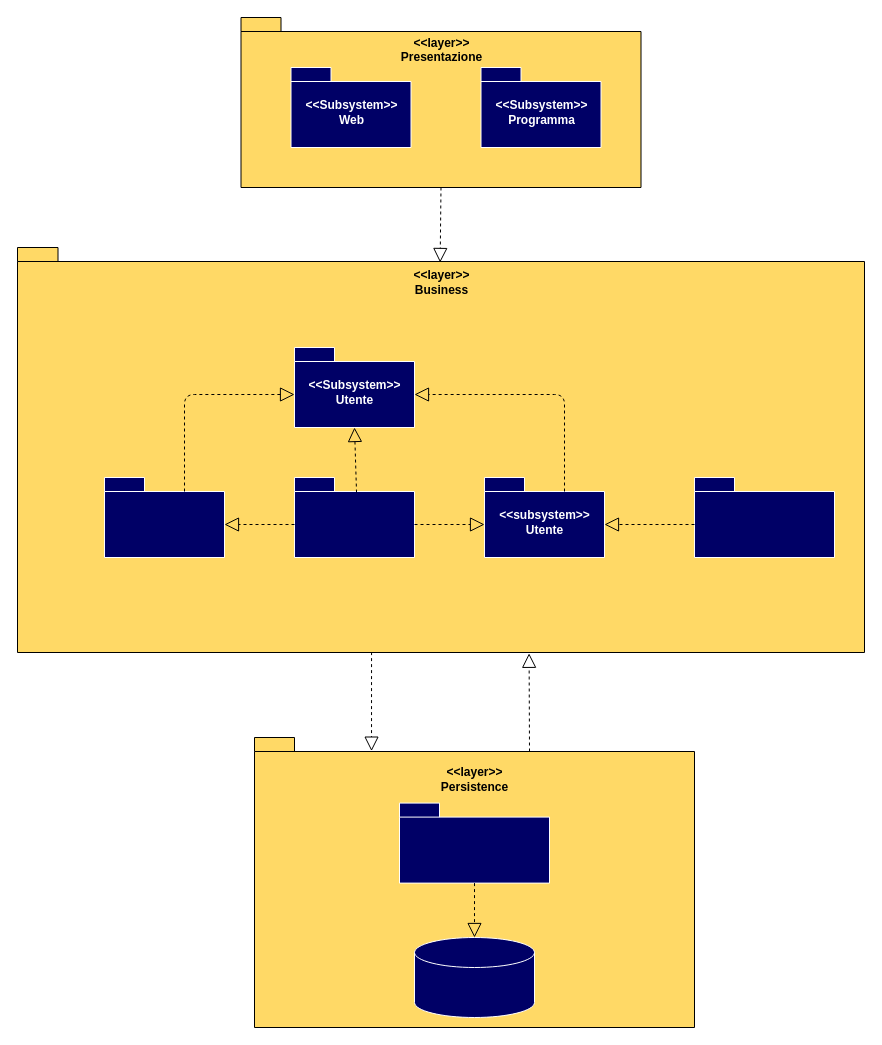
Image size: 882x1045. Some labels were removed from this diagram. Each missing label, with the centre of its shape:
<<Subsystem>> Data Access: pixel 474 842
<<subsystem>> Impiegato: pixel 164 517
<<subsystem>> Prenotazione: pixel 354 517
<<subsystem>> VisualizzazioneCoda: pixel 764 517
